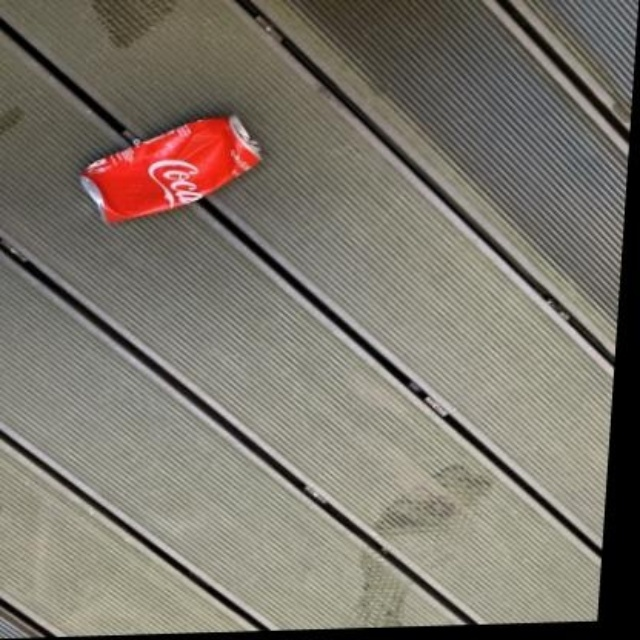trash: (80, 115, 258, 220)
